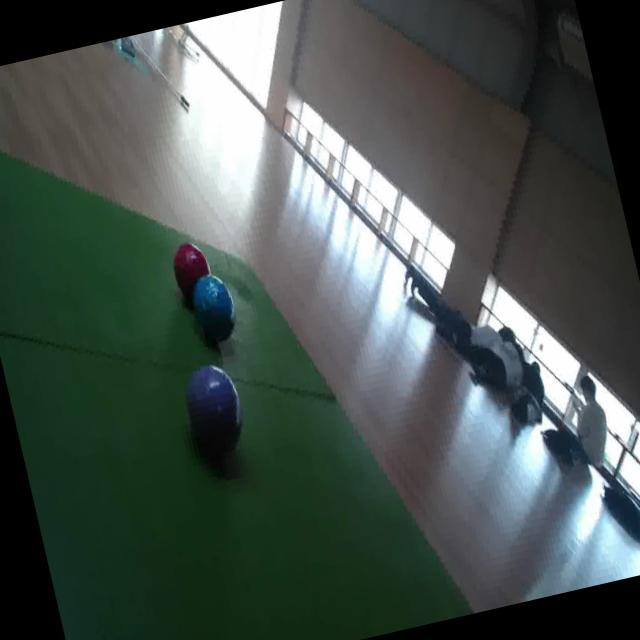blue_ball: (188, 266, 244, 348)
purple_ball: (178, 355, 252, 468)
red_ball: (167, 238, 216, 303)
